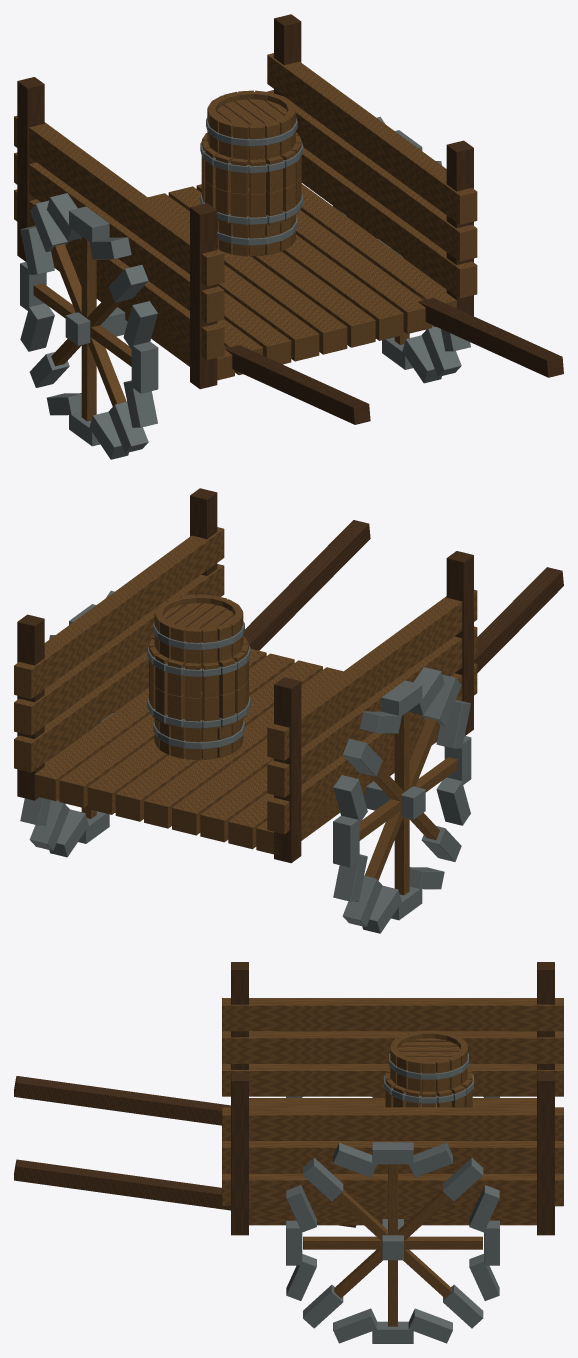
File: handcart.glb
3 renders of one model, top to bottom at view 1: azimuth 30°, elevation 25°; view 2: azimuth 150°, elevation 25°; view 3: azimuth 270°, elevation 25°, orthographic. The views are drawn at different scales.
Parts seen in each view (by area): view 1: handcart; view 2: handcart; view 3: handcart.
Part boxes in pixels (x1,y1,x2,y2): handcart: (14,14,563,459); handcart: (14,488,563,933); handcart: (14,962,563,1343).
Bounding box in the file's own units: 1.98 × 1.54 × 3.06.
3 materials, 2 textured.
